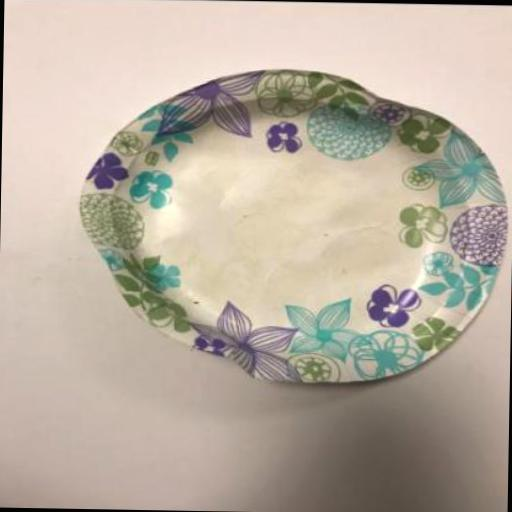paper: (78, 64, 512, 385)
